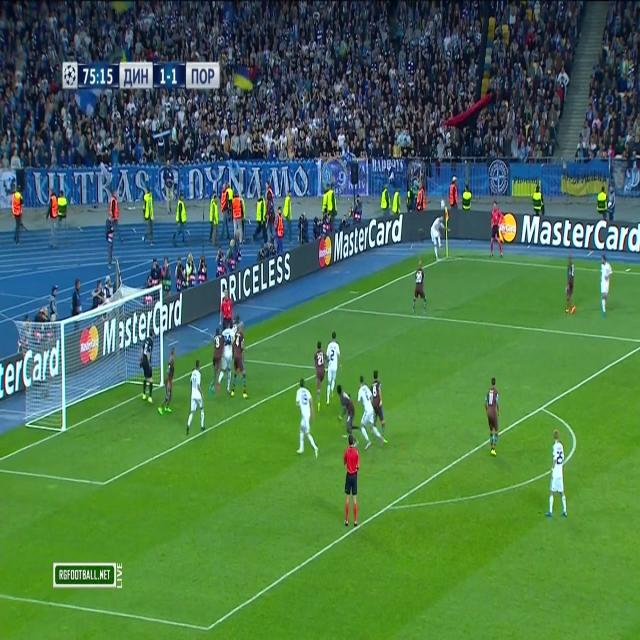Ball: (439, 196, 446, 212)
Player: (544, 427, 569, 523), (356, 372, 384, 450), (294, 378, 319, 462), (184, 357, 206, 439), (158, 342, 180, 420), (483, 374, 502, 456), (233, 318, 250, 404), (335, 381, 358, 444), (140, 328, 158, 408), (216, 322, 234, 398), (206, 327, 224, 398), (326, 332, 340, 410), (370, 366, 386, 432), (409, 258, 427, 314), (563, 254, 579, 316), (599, 252, 613, 316), (314, 339, 326, 413), (431, 214, 448, 264)
Referee: (342, 433, 362, 531), (488, 198, 506, 262), (218, 290, 234, 329)
